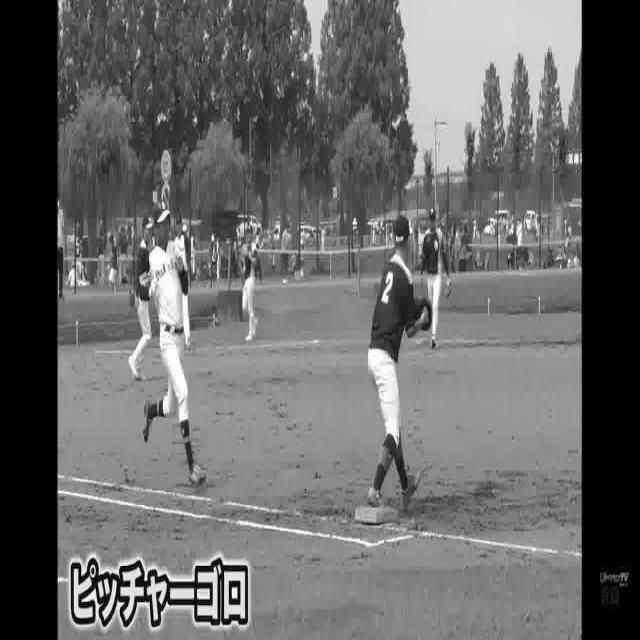base: (352, 498, 401, 528)
baseball_glove: (414, 295, 436, 338)
shoe: (400, 466, 425, 508), (366, 480, 393, 506), (140, 396, 155, 436), (185, 460, 206, 487)
